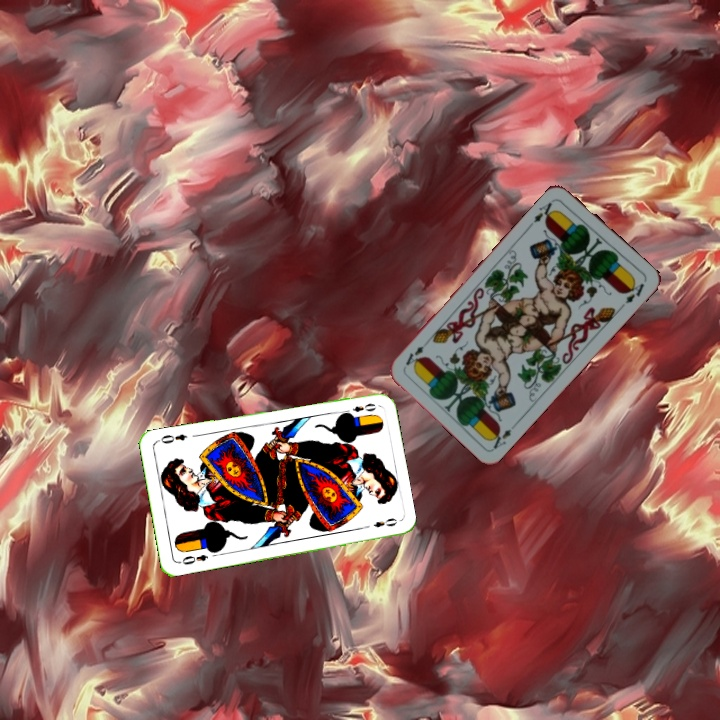EA: (525, 197, 558, 230), (486, 425, 514, 452)
EO: (339, 399, 379, 418), (175, 550, 211, 567)
